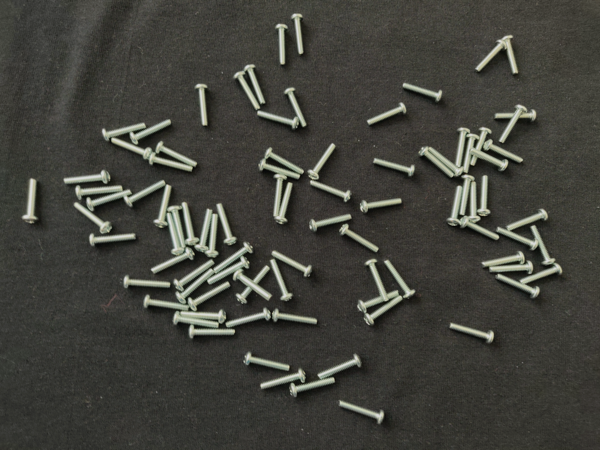longscrew: (235, 264, 272, 306), (173, 257, 216, 291), (384, 257, 417, 301), (122, 178, 167, 210), (187, 281, 232, 313), (175, 268, 215, 304), (212, 240, 255, 273), (72, 201, 113, 235), (207, 255, 252, 285), (150, 246, 197, 274), (494, 273, 541, 301), (364, 294, 405, 326), (473, 39, 509, 75), (129, 117, 175, 145), (233, 269, 273, 301), (287, 375, 338, 400), (498, 103, 528, 145), (337, 399, 385, 425), (271, 249, 314, 278), (317, 353, 363, 380), (262, 147, 306, 175), (232, 70, 261, 112), (338, 224, 380, 253), (418, 147, 456, 179), (154, 141, 199, 168), (448, 321, 496, 346), (427, 146, 465, 177), (259, 368, 308, 392), (357, 289, 402, 315), (495, 227, 540, 253), (269, 258, 294, 304), (530, 225, 558, 266), (364, 258, 390, 302), (457, 216, 501, 242), (308, 142, 338, 180), (366, 101, 408, 128), (86, 188, 134, 211), (225, 307, 273, 330), (309, 178, 353, 203), (283, 87, 309, 129), (484, 138, 526, 164), (242, 63, 267, 106), (102, 120, 148, 143), (109, 136, 153, 160), (152, 183, 174, 231), (506, 208, 550, 232), (216, 202, 239, 247), (274, 180, 296, 227), (401, 80, 444, 104), (243, 352, 292, 373), (519, 263, 563, 286), (469, 147, 509, 172), (308, 212, 353, 234), (64, 168, 113, 188), (21, 177, 41, 226), (256, 109, 300, 131), (148, 152, 194, 173), (194, 208, 215, 253), (167, 205, 188, 250), (165, 211, 186, 256), (470, 127, 493, 168), (258, 159, 302, 180), (74, 184, 125, 202), (88, 232, 138, 250), (180, 201, 200, 246), (141, 294, 190, 312), (271, 309, 320, 327), (373, 158, 417, 178), (359, 196, 404, 215), (481, 250, 526, 269), (172, 311, 221, 328), (271, 173, 289, 219), (193, 83, 211, 128), (494, 108, 539, 126), (458, 173, 476, 218), (122, 275, 172, 291), (187, 325, 237, 341), (446, 184, 464, 228), (179, 308, 228, 324), (290, 11, 307, 57), (502, 34, 520, 77), (205, 212, 221, 260), (489, 260, 535, 276), (455, 126, 472, 169), (462, 133, 480, 173), (466, 181, 482, 223), (274, 23, 289, 67), (477, 174, 492, 218)
